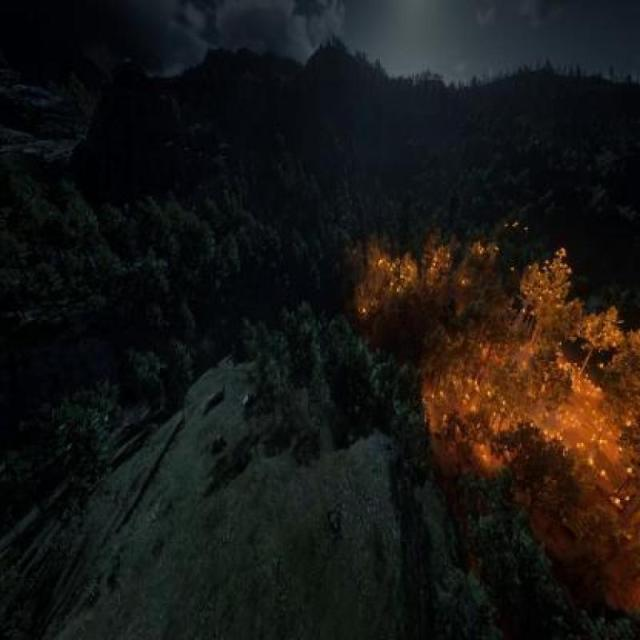Fire: (358, 248, 639, 574)
